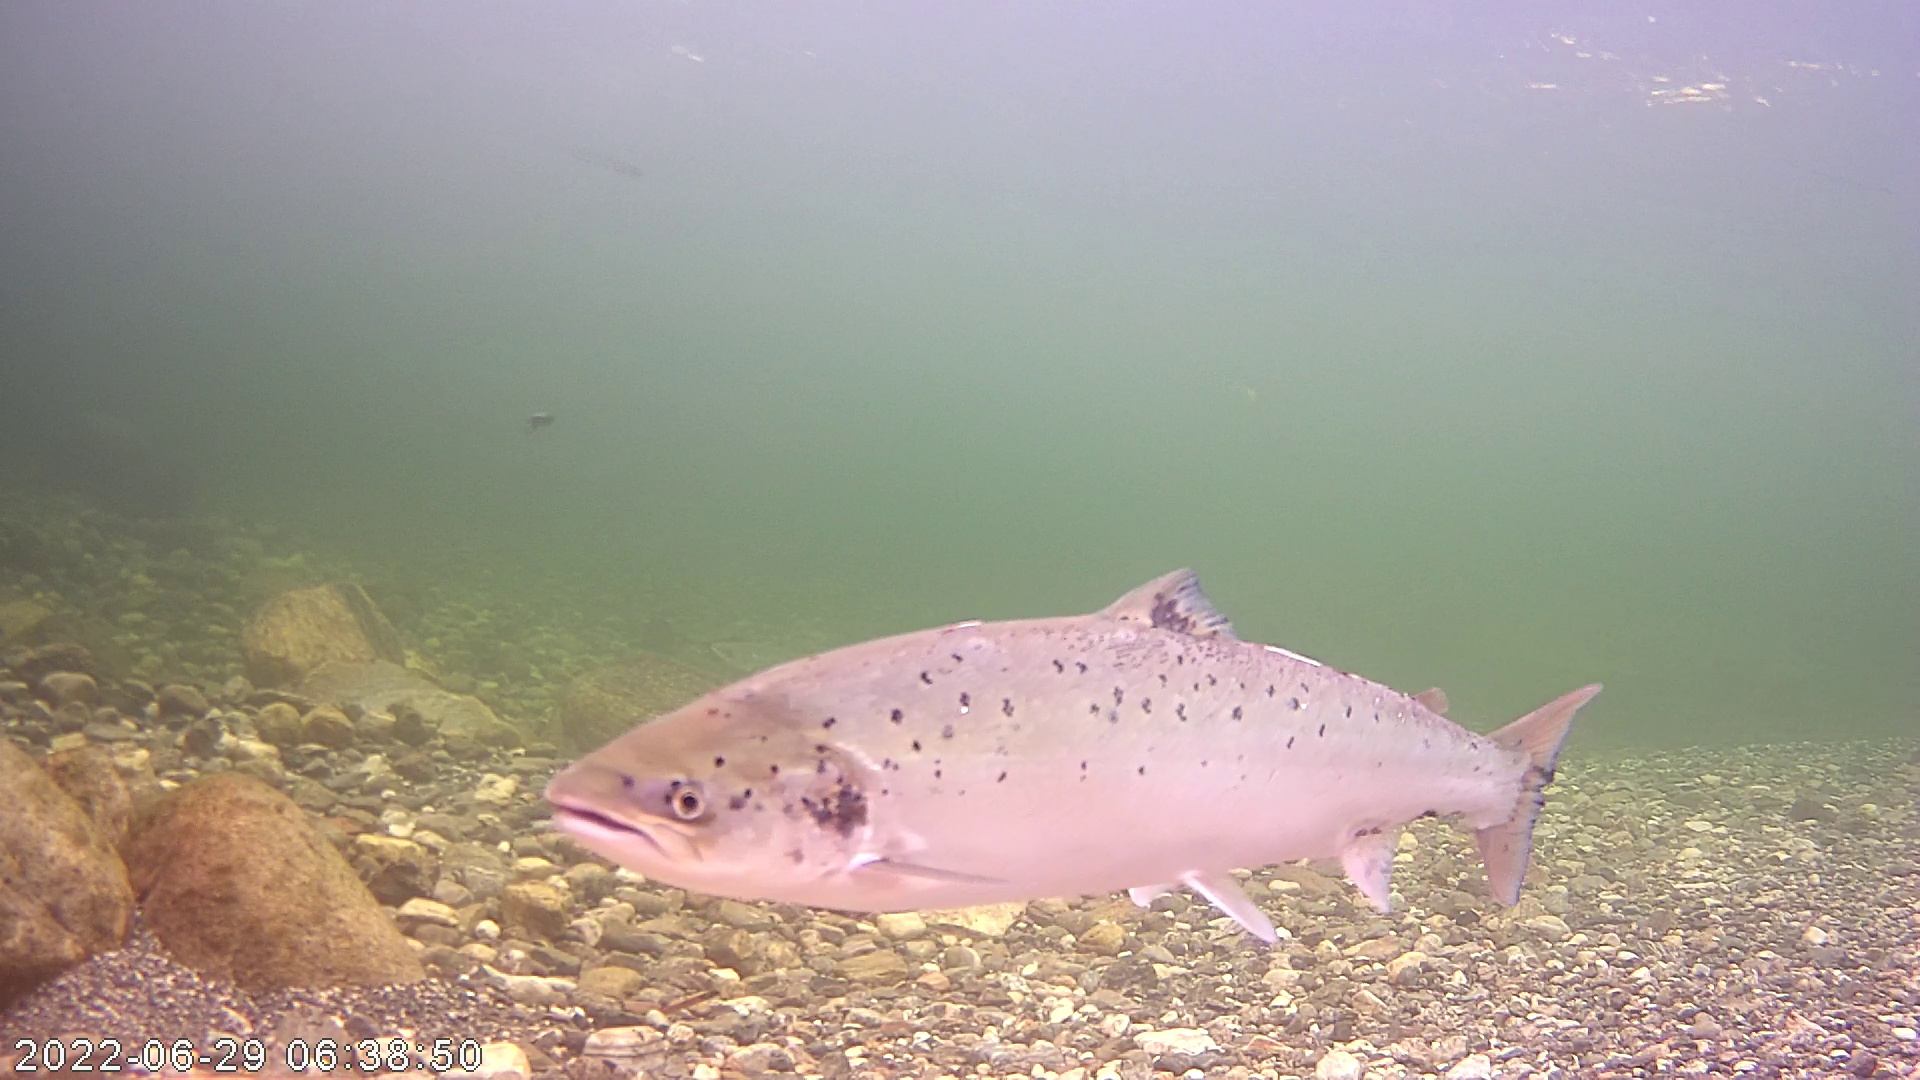salmon: (578, 491, 1596, 935)
